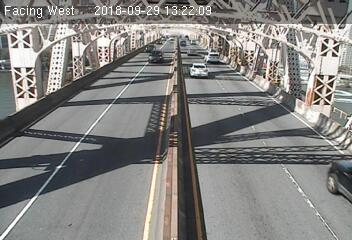car: (324, 153, 352, 206), (187, 61, 208, 78), (201, 48, 220, 63), (147, 51, 167, 65), (142, 42, 155, 52)
